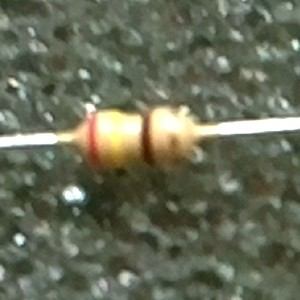brown_band: (140, 111, 158, 169)
gold_band: (168, 108, 185, 163)
red_band: (86, 109, 104, 172)
yellow_band: (109, 109, 125, 170)
